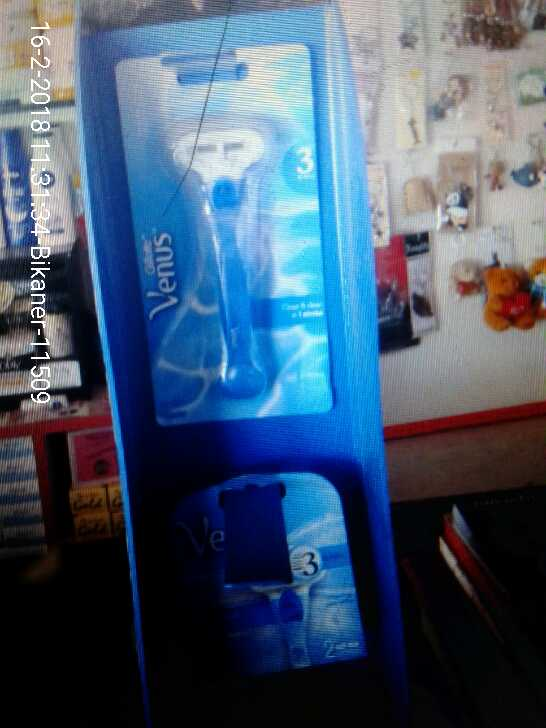venus: (121, 45, 340, 424), (170, 475, 370, 689)
